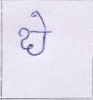e_matra: (31, 11, 52, 30)
